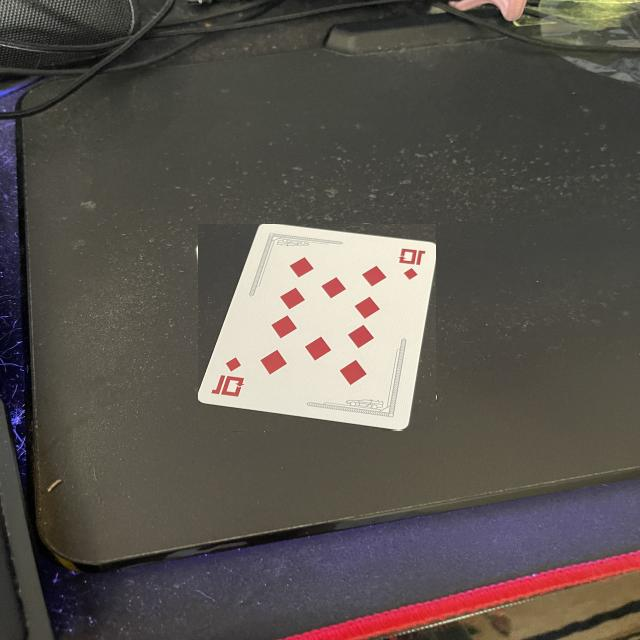10 of diamonds: (198, 224, 436, 430)
